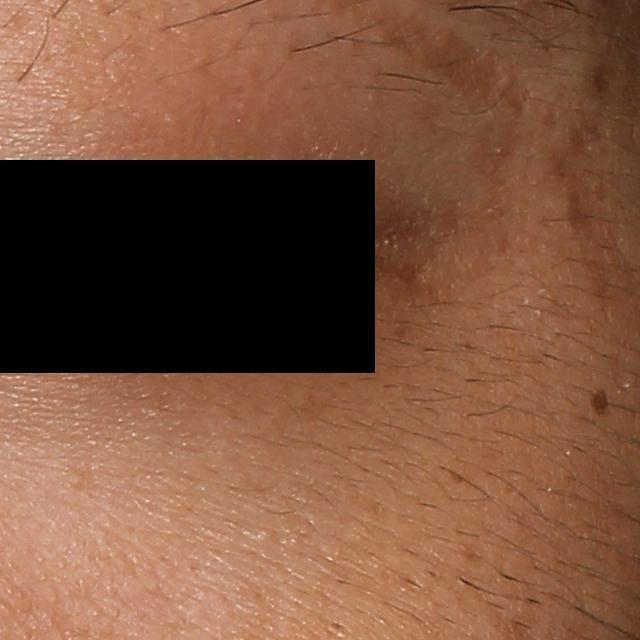nevus: (586, 385, 614, 420)
